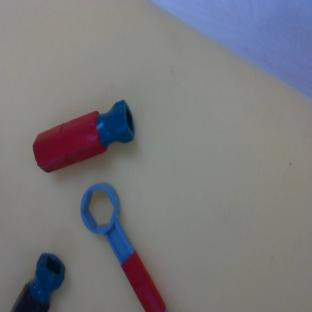part_2_bad: (11, 249, 72, 312)
part_2_good: (26, 97, 141, 178)
part_3_good: (72, 178, 167, 312)
